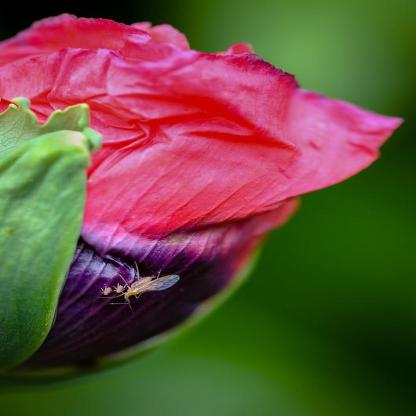aphid: (99, 258, 180, 309)
